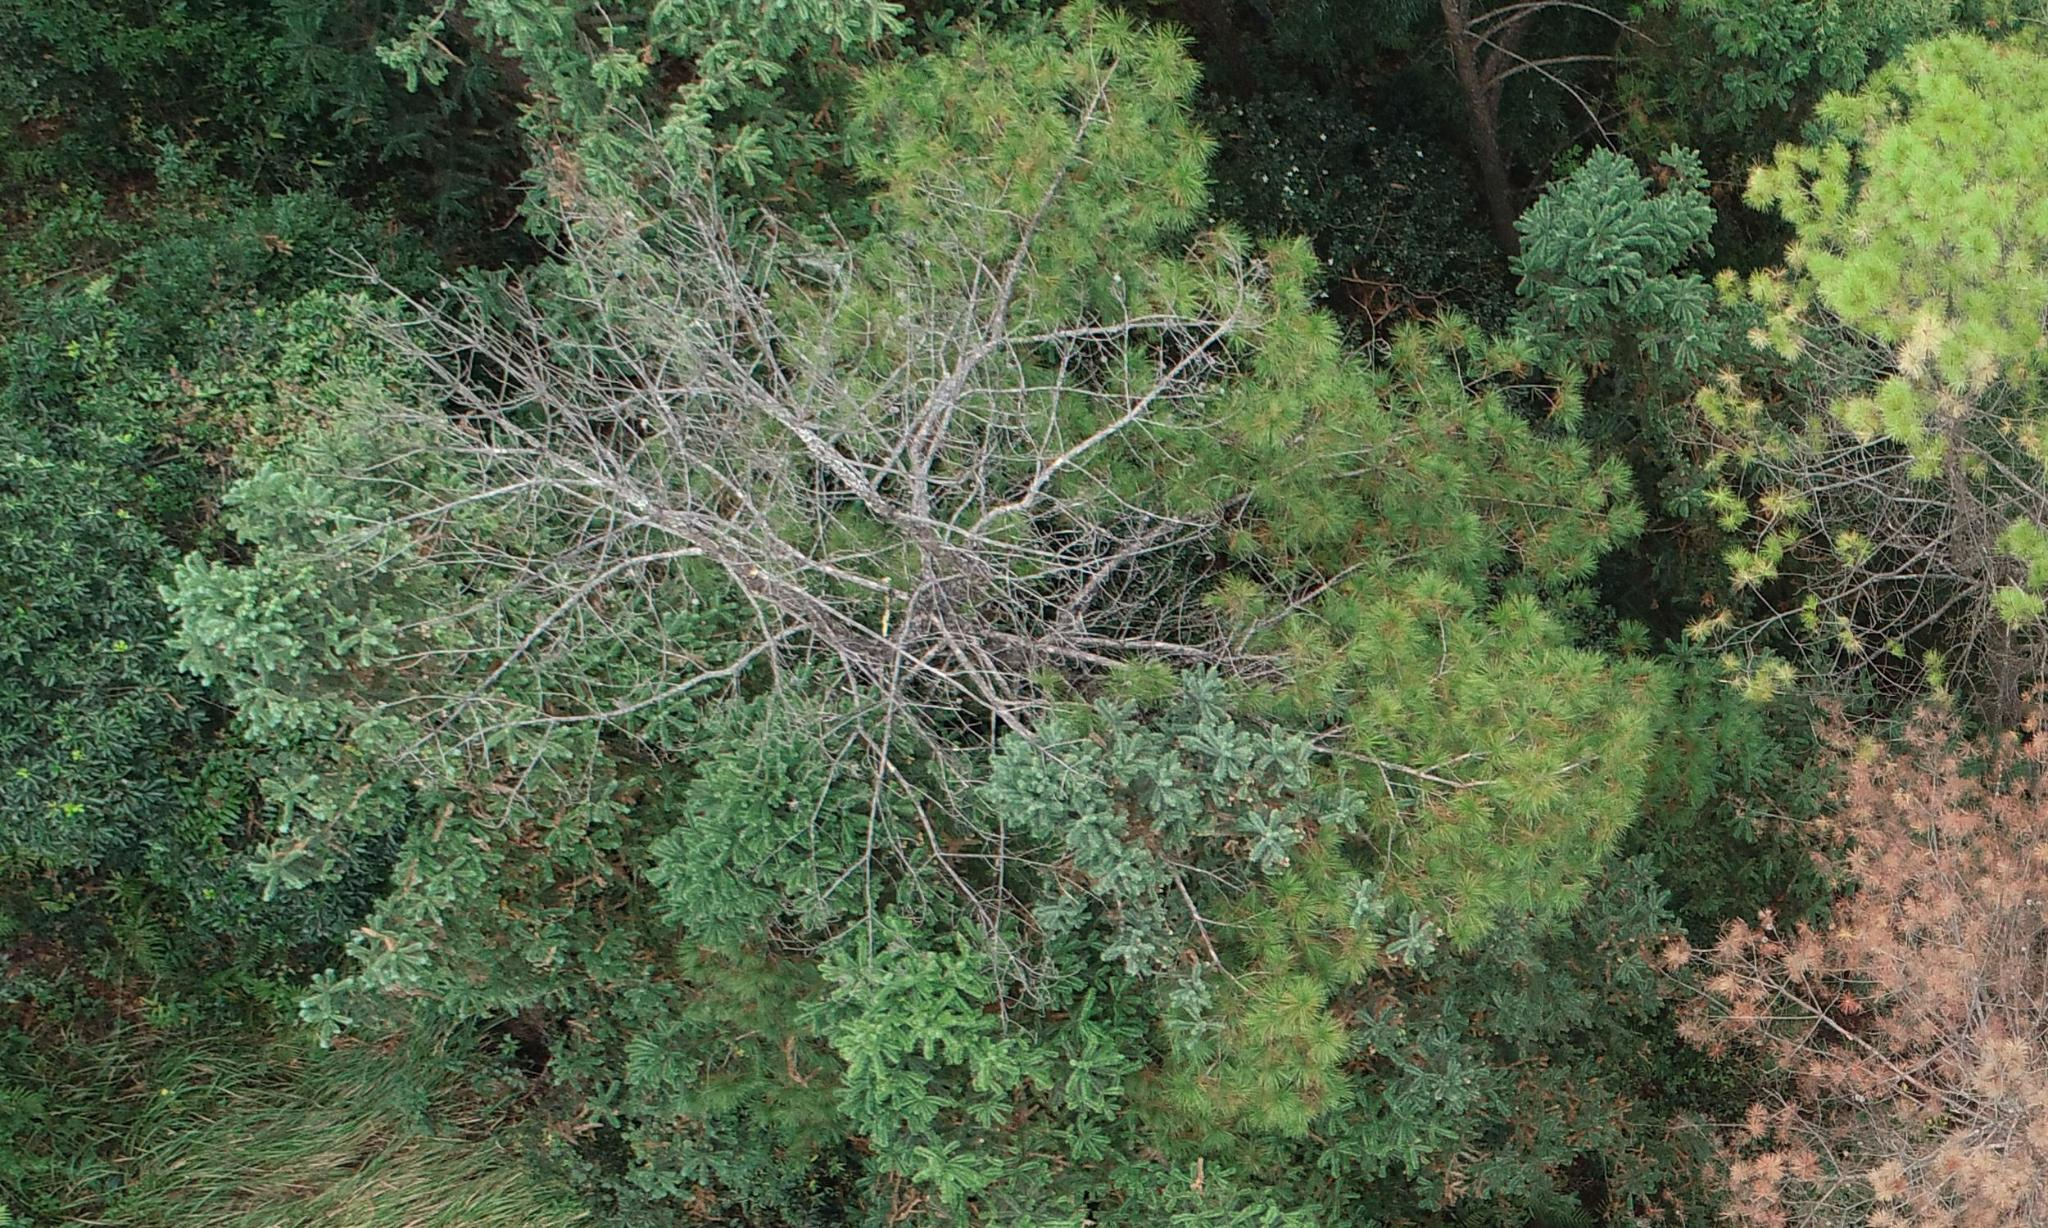dead: (257, 140, 1352, 886)
heavy: (1706, 653, 2048, 1228)
light: (1802, 15, 2048, 518)
